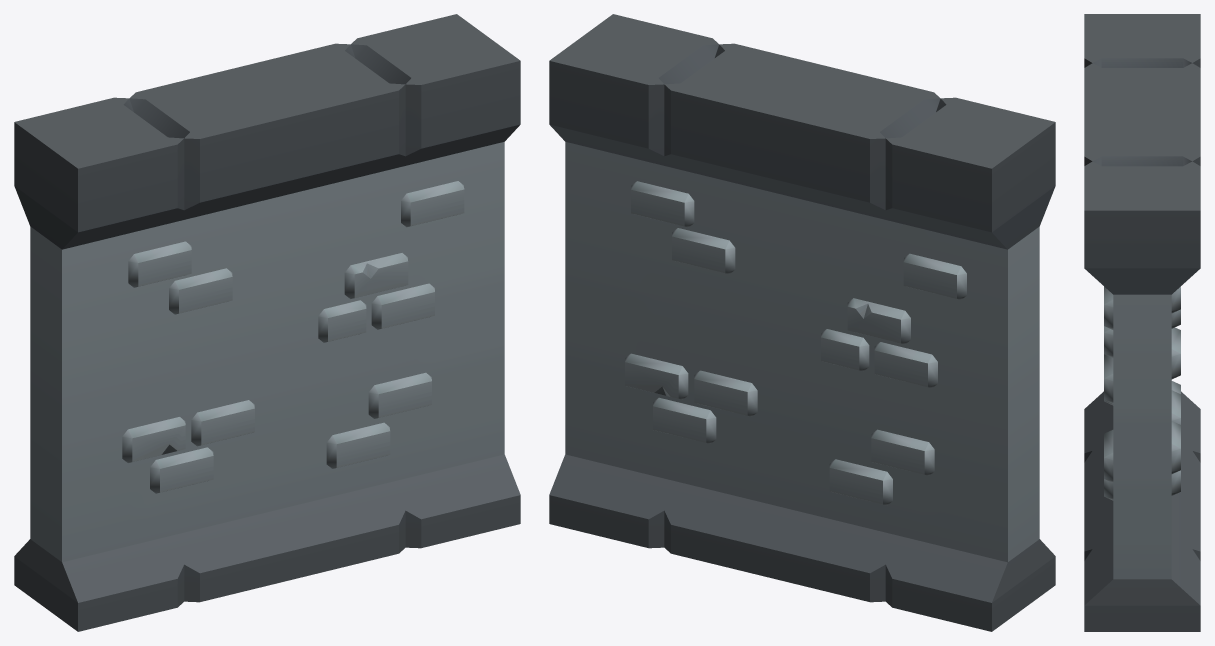
The model's file is wall.glb.
The picture shows the model from 3 angles, left to right: view 1: azimuth 30°, elevation 25°; view 2: azimuth 150°, elevation 25°; view 3: azimuth 270°, elevation 25°; orthographic projection. The views are drawn at different scales.
Visible parts, largest first — view 1: wall; view 2: wall; view 3: wall.
Boxes of the visible parts, x1,y1,x2,y2 form: wall: (14, 14, 520, 631); wall: (549, 14, 1055, 631); wall: (1084, 14, 1200, 631).
Bounding box in the file's own units: 4 × 4 × 1.
Materials: 1 (1 with a texture image).
